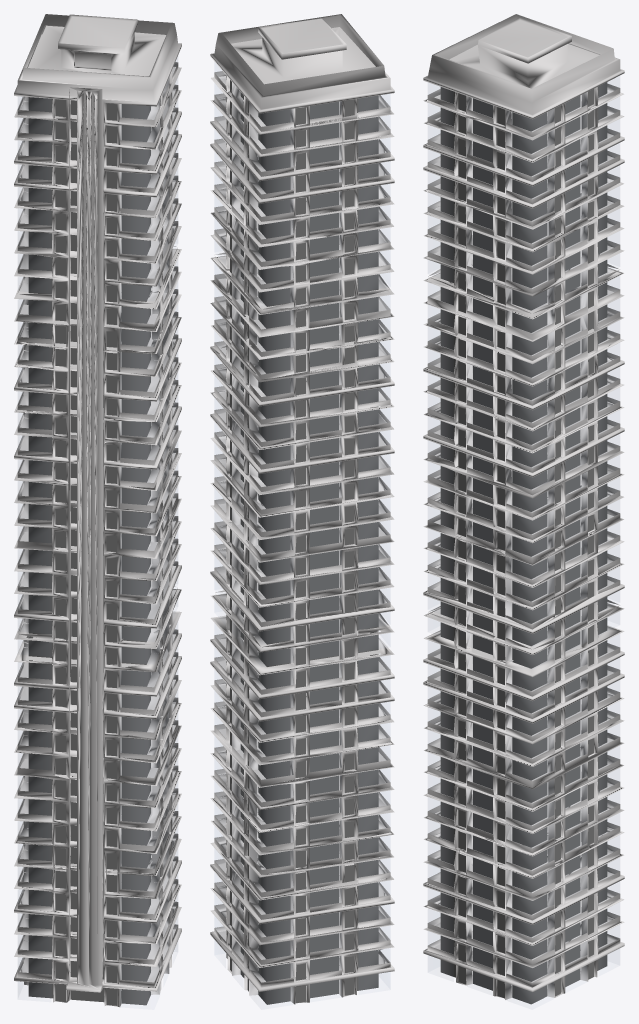
Rendered from com-2.glb.
The picture shows the model from 3 angles, left to right: view 1: azimuth 30°, elevation 25°; view 2: azimuth 150°, elevation 25°; view 3: azimuth 270°, elevation 25°; orthographic projection.
Visible parts, largest first — view 1: part_00, part_03, part_01, part_02; view 2: part_00, part_03, part_01, part_02; view 3: part_00, part_03, part_01, part_02.
Boxes of the visible parts, x1=… form: part_00: x1=14, y1=14, x2=181, y2=1007; part_03: x1=28, y1=97, x2=150, y2=1005; part_01: x1=17, y1=14, x2=178, y2=991; part_02: x1=18, y1=58, x2=177, y2=996; part_00: x1=210, y1=14, x2=394, y2=1004; part_03: x1=226, y1=75, x2=378, y2=1004; part_01: x1=214, y1=18, x2=390, y2=987; part_02: x1=215, y1=63, x2=389, y2=987; part_00: x1=423, y1=14, x2=624, y2=999; part_03: x1=440, y1=82, x2=607, y2=1004; part_01: x1=427, y1=17, x2=620, y2=987; part_02: x1=428, y1=76, x2=619, y2=971.
Bounding box in the file's own units: 130 × 666 × 130.
